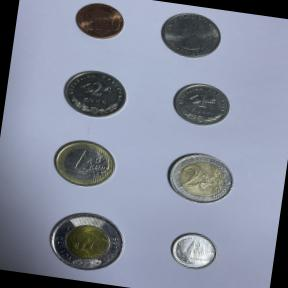1 Euro: (48, 133, 120, 194)
2 Euro: (158, 145, 243, 211)
Canda-10cent-: (163, 225, 222, 275)
Canda-2Dollar-: (41, 202, 131, 280)
Croatia-2Kune-: (53, 64, 134, 124)
US-1cent-: (67, 0, 130, 49)
US-25cent-: (152, 4, 229, 69)
